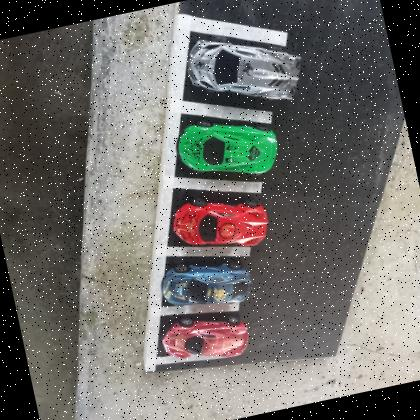Car: (181, 20, 311, 120), (172, 108, 284, 190), (169, 187, 274, 262), (158, 252, 256, 318), (158, 307, 254, 372)
